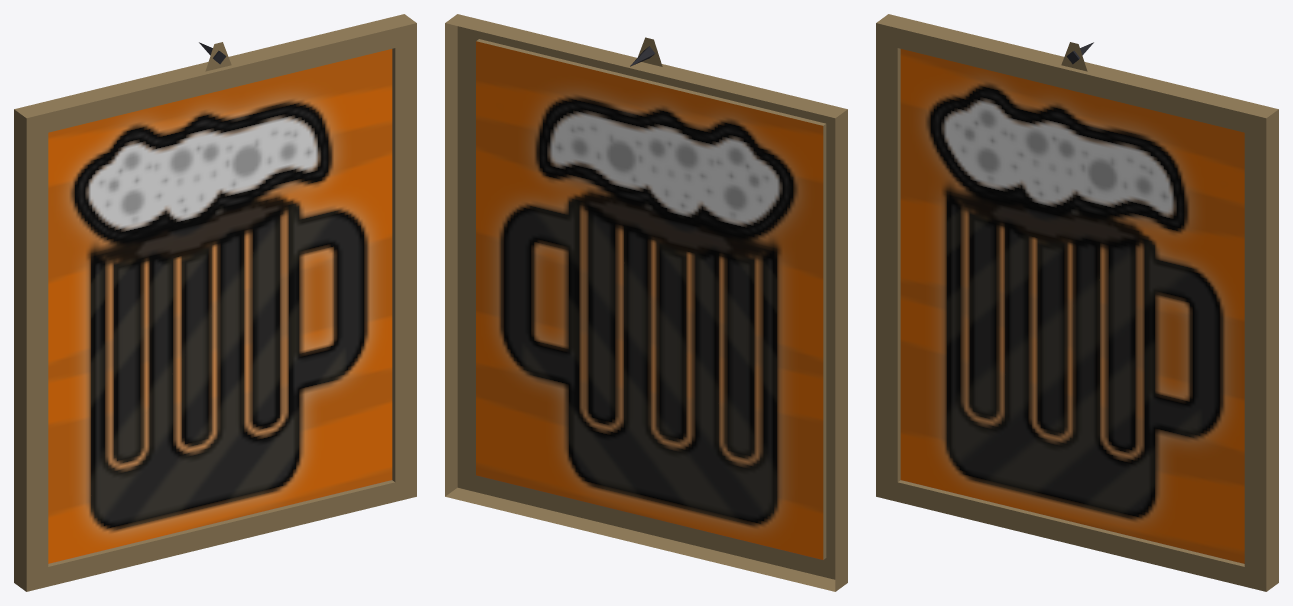
The model's file is Paint_2.fbx.
3 renders of one model, left to right at view 1: azimuth 30°, elevation 25°; view 2: azimuth 150°, elevation 25°; view 3: azimuth 330°, elevation 25°, orthographic.
Visible parts, largest first — view 1: polySurface1520; view 2: polySurface1520; view 3: polySurface1520.
Boxes of the visible parts, box(x1,y1,x2,y2) form: polySurface1520: box(14, 14, 416, 591); polySurface1520: box(445, 14, 847, 591); polySurface1520: box(876, 14, 1278, 591).
Size of the model in its own units: 109 by 133 by 11.26.
